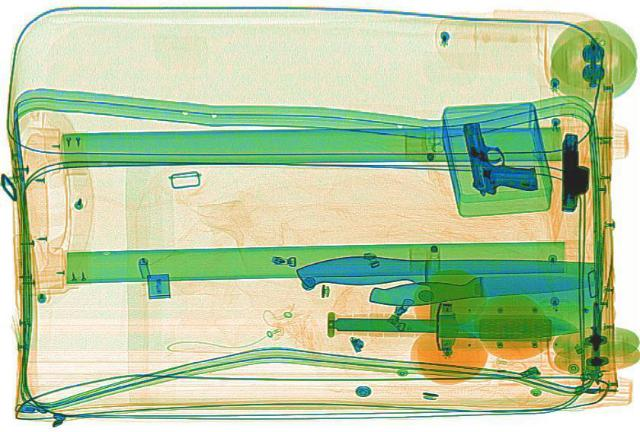Gun: (456, 116, 538, 194), (555, 131, 591, 209)
Knife: (292, 254, 600, 331), (364, 267, 602, 307), (332, 310, 580, 339)
